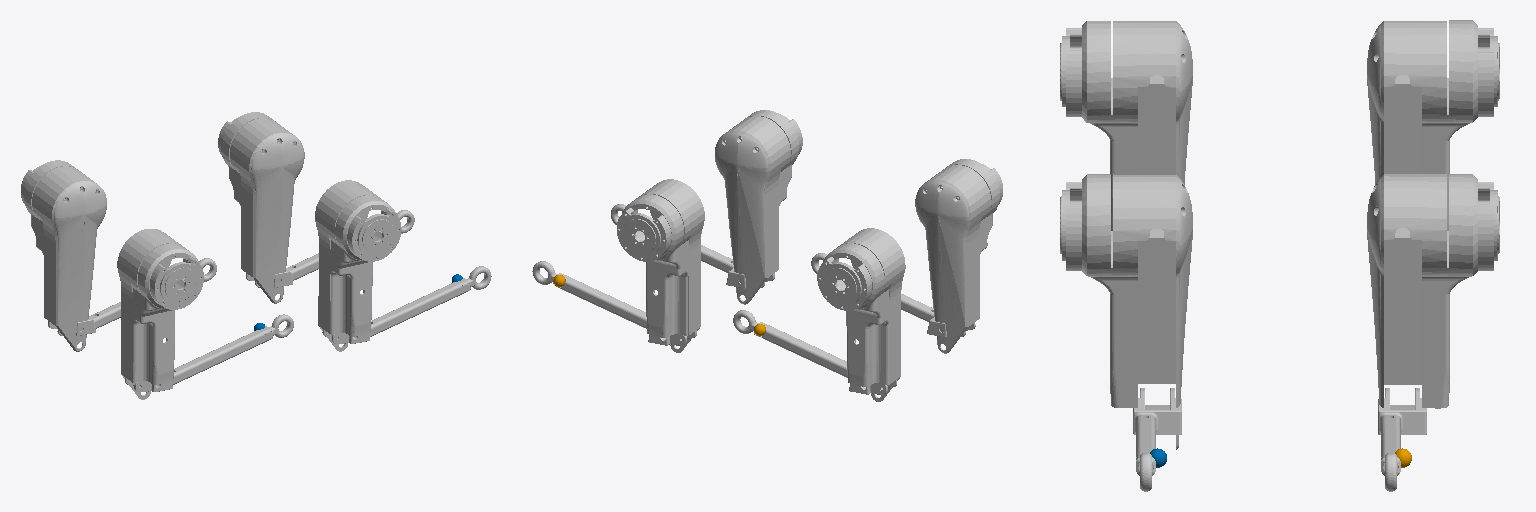
--- Facts derived from the render (not from the file) ---
The picture shows the robot from 3 angles, left to right: view 1: azimuth 30°, elevation 25°; view 2: azimuth 150°, elevation 25°; view 3: azimuth 270°, elevation 25°; orthographic projection.
Robot: go1_description — 17 links, 16 joints (12 revolute, 4 fixed); root link trunk; default pose: all joints at 0 but 4 set to mid-range because 0 is outside their limits (FR_calf_joint = -1.78, FL_calf_joint = -1.78, RR_calf_joint = -1.78, RL_calf_joint = -1.78).
Links seen in each view (by area): view 1: FL_thigh, RL_thigh, RR_thigh, FR_thigh, FR_calf, RR_calf, FL_calf, RL_calf; view 2: RR_thigh, FR_thigh, FL_thigh, RL_thigh, RL_calf, FL_calf, RR_calf, FR_calf; view 3: FL_thigh, FR_thigh, RR_thigh, RL_thigh, FR_calf, FL_calf.
Link boxes in pixels (x1,y1,x2,y2): FL_thigh: (218, 112, 304, 303); RL_thigh: (21, 160, 106, 351); RR_thigh: (117, 229, 203, 399); FR_thigh: (315, 180, 401, 351); FR_calf: (322, 266, 491, 343); RR_calf: (125, 314, 293, 391); FL_calf: (246, 210, 414, 287); RL_calf: (48, 258, 216, 335); RR_thigh: (915, 159, 1002, 353); FR_thigh: (715, 110, 802, 304); FL_thigh: (617, 179, 704, 352); RL_thigh: (817, 228, 905, 401); RL_calf: (733, 310, 896, 394); FL_calf: (532, 261, 696, 345); RR_calf: (811, 253, 975, 337); FR_calf: (611, 204, 774, 288); FL_thigh: (1367, 174, 1499, 408); FR_thigh: (1060, 174, 1192, 449); RR_thigh: (1060, 21, 1192, 230); RL_thigh: (1367, 20, 1499, 230); FR_calf: (1133, 388, 1181, 491); FL_calf: (1378, 388, 1426, 491).
Bounding box of the posed robot: 0.6938 × 0.4547 × 0.3099 m (x, y, z).
Meshes: 5 distinct files referenced, 8 mesh visuals loaded (3 Collada DAE); not drawn: 5 (reference not matched to a file when rendering).

The robot description file, URDF, robot "go1_description":
<?xml version="1.0" ?>
<robot name="go1_description" xmlns:xacro="http://www.ros.org/wiki/xacro">
  <material name="black">
    <color rgba="0.0 0.0 0.0 1.0"/>
  </material>
  <material name="blue">
    <color rgba="0.0 0.0 0.8 1.0"/>
  </material>
  <material name="green">
    <color rgba="0.0 0.8 0.0 1.0"/>
  </material>
  <material name="grey">
    <color rgba="0.2 0.2 0.2 1.0"/>
  </material>
  <material name="silver">
    <color rgba="0.913725490196 0.913725490196 0.847058823529 1.0"/>
  </material>
  <material name="orange">
    <color rgba="1.0 0.423529411765 0.0392156862745 1.0"/>
  </material>
  <material name="brown">
    <color rgba="0.870588235294 0.811764705882 0.764705882353 1.0"/>
  </material>
  <material name="red">
    <color rgba="0.8 0.0 0.0 1.0"/>
  </material>
  <material name="white">
    <color rgba="1.0 1.0 1.0 1.0"/>
  </material>
  <!-- <link name="base">
    <visual>
      <origin rpy="0 0 0" xyz="0 0 0"/>
      <geometry>
        <box size="0.001 0.001 0.001"/>
      </geometry>
    </visual>
  </link>
  <joint name="floating_base" type="fixed">
    <origin rpy="0 0 0" xyz="0 0 0"/>
    <parent link="base"/>
    <child link="trunk"/>
  </joint> -->
  <link name="trunk">
    <visual>
      <origin rpy="0 0 0" xyz="0 0 0"/>
      <geometry>
        <mesh filename="meshes/trunk.dae" scale="1 1 1"/>
      </geometry>
      <!-- <material name="orange"/> -->
    </visual>
    <collision>
      <origin rpy="0 0 0" xyz="0 0 0"/>
      <geometry>
        <box size="0.3762 0.0935 0.114"/>
      </geometry>
    </collision>
    <inertial>
      <origin rpy="0 0 0" xyz="0.0223 0.002 -0.0005"/>
      <mass value="5.204"/>
      <inertia ixx="0.0168352186" ixy="0.0004636141" ixz="0.0002367952" iyy="0.0656071082" iyz="3.6671e-05" izz="0.0742720659"/>
    </inertial>
  </link>
  <!-- <joint name="imu_joint" type="fixed">
    <parent link="trunk"/>
    <child link="imu_link"/>
    <origin rpy="0 0 0" xyz="-0.01592 -0.06659 -0.00617"/>
  </joint>
  <link name="imu_link">
    <inertial>
      <mass value="0.001"/>
      <origin rpy="0 0 0" xyz="0 0 0"/>
      <inertia ixx="0.0001" ixy="0" ixz="0" iyy="0.0001" iyz="0" izz="0.0001"/>
    </inertial>
    <visual>
      <origin rpy="0 0 0" xyz="0 0 0"/>
      <geometry>
        <box size="0.001 0.001 0.001"/>
      </geometry>

    </visual>
    <collision>
      <origin rpy="0 0 0" xyz="0 0 0"/>
      <geometry>
        <box size=".001 .001 .001"/>
      </geometry>
    </collision>
  </link> -->
  <joint name="FR_hip_joint" type="revolute">
    <origin rpy="0 0 0" xyz="0.1881 -0.04675 0"/>
    <parent link="trunk"/>
    <child link="FR_hip"/>
    <axis xyz="1 0 0"/>
    <dynamics damping="0.01" friction="0.2"/>
    <limit effort="23.7" lower="-1.0471975512" upper="1.0471975512" velocity="30.1"/>
  </joint>
  <link name="FR_hip">
    <visual>
      <origin rpy="3.14159265359 0 0" xyz="0 0 0"/>
      <geometry>
        <mesh filename="meshes/hip.dae" scale="1 1 1"/>
      </geometry>
      <!-- <material name="orange"/> -->
    </visual>
    <collision>
      <origin rpy="1.57079632679 0 0" xyz="0 0 0"/>
      <geometry>
        <cylinder length="0.04" radius="0.046"/>
      </geometry>
    </collision>
    <inertial>
      <origin rpy="0 0 0" xyz="-0.00541 0.00074 6e-06"/>
      <mass value="0.591"/>
      <inertia ixx="0.000374268192" ixy="-3.6844422e-05" ixz="-9.86754e-07" iyy="0.000635923669" iyz="1.172894e-06" izz="0.000457647394"/>
    </inertial>
  </link>
  <!-- <joint name="FR_hip_fixed" type="fixed">
    <origin rpy="0 0 0" xyz="0 -0.08 0"/>
    <parent link="FR_hip"/>
    <child link="FR_thigh_shoulder"/>
  </joint>

  <link name="FR_thigh_shoulder">
    <collision>
      <origin rpy="1.57079632679 0 0" xyz="0 0 0"/>
      <geometry>
        <cylinder length="0.032" radius="0.041"/>
      </geometry>
    </collision>
  </link> -->
  <joint name="FR_thigh_joint" type="revolute">
    <origin rpy="0 0 0" xyz="0 -0.08 0"/>
    <parent link="FR_hip"/>
    <child link="FR_thigh"/>
    <axis xyz="0 1 0"/>
    <dynamics damping="0.01" friction="0.2"/>
    <limit effort="23.7" lower="-0.663225115758" upper="2.96705972839" velocity="30.1"/>
  </joint>
  <link name="FR_thigh">
    <visual>
      <origin rpy="0 0 0" xyz="0 0 0"/>
      <geometry>
        <mesh filename="meshes/thigh_mirror.dae" scale="1 1 1"/>
      </geometry>
      <!-- <material name="orange"/> -->
    </visual>
    <collision>
      <origin rpy="0 1.57079632679 0" xyz="0 0 -0.1065"/>
      <geometry>
        <box size="0.213 0.0245 0.034"/>
      </geometry>
    </collision>
    <inertial>
      <origin rpy="0 0 0" xyz="-0.003468 0.018947 -0.032736"/>
      <mass value="0.92"/>
      <inertia ixx="0.005851561134" ixy="-1.783284e-06" ixz="0.000328291374" iyy="0.005596155105" iyz="-2.1430713e-05" izz="0.00107157026"/>
    </inertial>
  </link>
  <joint name="FR_calf_joint" type="revolute">
    <origin rpy="0 0 0" xyz="0 0 -0.213"/>
    <parent link="FR_thigh"/>
    <child link="FR_calf"/>
    <axis xyz="0 1 0"/>
    <dynamics damping="0.01" friction="0.2"/>
    <limit effort="23.7" lower="-2.72271363311" upper="-0.837758040957" velocity="30.1"/>
  </joint>
  <link name="FR_calf">
    <visual>
      <origin rpy="0 0 0" xyz="0 0 0"/>
      <geometry>
        <mesh filename="meshes/calf.dae" scale="1 1 1"/>
      </geometry>
      <!-- <material name="orange"/> -->
    </visual>
    <collision>
      <origin rpy="0 1.57079632679 0" xyz="0 0 -0.1065"/>
      <geometry>
        <box size="0.213 0.016 0.016"/>
      </geometry>
    </collision>
    <inertial>
      <origin rpy="0 0 0" xyz="0.006286 0.001307 -0.122269"/>
      <mass value="0.131"/>
      <inertia ixx="0.002939186297" ixy="1.440899e-06" ixz="-0.00010535955" iyy="0.00295576935" iyz="-2.4397752e-05" izz="3.0273372e-05"/>
    </inertial>
  </link>
  <joint name="FR_foot_fixed" type="fixed" dont_collapse="true">
    <origin rpy="0 0 0" xyz="0 0 -0.213"/>
    <parent link="FR_calf"/>
    <child link="FR_foot"/>
  </joint>
  <link name="FR_foot">
    <visual>
      <origin rpy="0 0 0" xyz="0 0 0"/>
      <geometry>
        <sphere radius="0.01"/>
      </geometry>
      <!-- <material name="orange"/> -->
    </visual>
    <collision>
      <origin rpy="0 0 0" xyz="0 0 0"/>
      <geometry>
        <sphere radius="0.02"/>
      </geometry>
    </collision>
    <inertial>
      <mass value="0.06"/>
      <inertia ixx="9.6e-06" ixy="0.0" ixz="0.0" iyy="9.6e-06" iyz="0.0" izz="9.6e-06"/>
    </inertial>
  </link>
  <joint name="FL_hip_joint" type="revolute">
    <origin rpy="0 0 0" xyz="0.1881 0.04675 0"/>
    <parent link="trunk"/>
    <child link="FL_hip"/>
    <axis xyz="1 0 0"/>
    <dynamics damping="0.01" friction="0.2"/>
    <limit effort="23.7" lower="-1.0471975512" upper="1.0471975512" velocity="30.1"/>
  </joint>
  <link name="FL_hip">
    <visual>
      <origin rpy="0 0 0" xyz="0 0 0"/>
      <geometry>
        <mesh filename="meshes/hip.dae" scale="1 1 1"/>
      </geometry>
      <!-- <material name="orange"/> -->
    </visual>
    <collision>
      <origin rpy="1.57079632679 0 0" xyz="0 0 0"/>
      <geometry>
        <cylinder length="0.04" radius="0.046"/>
      </geometry>
    </collision>
    <inertial>
      <origin rpy="0 0 0" xyz="-0.00541 -0.00074 6e-06"/>
      <mass value="0.591"/>
      <inertia ixx="0.000374268192" ixy="3.6844422e-05" ixz="-9.86754e-07" iyy="0.000635923669" iyz="-1.172894e-06" izz="0.000457647394"/>
    </inertial>
  </link>
  <!-- <joint name="FL_hip_fixed" type="fixed">
    <origin rpy="0 0 0" xyz="0 0.08 0"/>
    <parent link="FL_hip"/>
    <child link="FL_thigh_shoulder"/>
  </joint>

  <link name="FL_thigh_shoulder">
    <collision>
      <origin rpy="1.57079632679 0 0" xyz="0 0 0"/>
      <geometry>
        <cylinder length="0.032" radius="0.041"/>
      </geometry>
    </collision>
  </link> -->
  <joint name="FL_thigh_joint" type="revolute">
    <origin rpy="0 0 0" xyz="0 0.08 0"/>
    <parent link="FL_hip"/>
    <child link="FL_thigh"/>
    <axis xyz="0 1 0"/>
    <dynamics damping="0.01" friction="0.2"/>
    <limit effort="23.7" lower="-0.663225115758" upper="2.96705972839" velocity="30.1"/>
  </joint>
  <link name="FL_thigh">
    <visual>
      <origin rpy="0 0 0" xyz="0 0 0"/>
      <geometry>
        <mesh filename="meshes/thigh.dae" scale="1 1 1"/>
      </geometry>
      <!-- <material name="orange"/> -->
    </visual>
    <collision>
      <origin rpy="0 1.57079632679 0" xyz="0 0 -0.1065"/>
      <geometry>
        <box size="0.213 0.0245 0.034"/>
      </geometry>
    </collision>
    <inertial>
      <origin rpy="0 0 0" xyz="-0.003468 -0.018947 -0.032736"/>
      <mass value="0.92"/>
      <inertia ixx="0.005851561134" ixy="1.783284e-06" ixz="0.000328291374" iyy="0.005596155105" iyz="2.1430713e-05" izz="0.00107157026"/>
    </inertial>
  </link>
  <joint name="FL_calf_joint" type="revolute">
    <origin rpy="0 0 0" xyz="0 0 -0.213"/>
    <parent link="FL_thigh"/>
    <child link="FL_calf"/>
    <axis xyz="0 1 0"/>
    <dynamics damping="0.01" friction="0.2"/>
    <limit effort="23.7" lower="-2.72271363311" upper="-0.837758040957" velocity="30.1"/>
  </joint>
  <link name="FL_calf">
    <visual>
      <origin rpy="0 0 0" xyz="0 0 0"/>
      <geometry>
        <mesh filename="meshes/calf.dae" scale="1 1 1"/>
      </geometry>
      <!-- <material name="orange"/> -->
    </visual>
    <collision>
      <origin rpy="0 1.57079632679 0" xyz="0 0 -0.1065"/>
      <geometry>
        <box size="0.213 0.016 0.016"/>
      </geometry>
    </collision>
    <inertial>
      <origin rpy="0 0 0" xyz="0.006286 0.001307 -0.122269"/>
      <mass value="0.131"/>
      <inertia ixx="0.002939186297" ixy="1.440899e-06" ixz="-0.00010535955" iyy="0.00295576935" iyz="-2.4397752e-05" izz="3.0273372e-05"/>
    </inertial>
  </link>
  <joint name="FL_foot_fixed" type="fixed" dont_collapse="true">
    <origin rpy="0 0 0" xyz="0 0 -0.213"/>
    <parent link="FL_calf"/>
    <child link="FL_foot"/>
  </joint>
  <link name="FL_foot">
    <visual>
      <origin rpy="0 0 0" xyz="0 0 0"/>
      <geometry>
        <sphere radius="0.01"/>
      </geometry>
      <!-- <material name="orange"/> -->
    </visual>
    <collision>
      <origin rpy="0 0 0" xyz="0 0 0"/>
      <geometry>
        <sphere radius="0.02"/>
      </geometry>
    </collision>
    <inertial>
      <mass value="0.06"/>
      <inertia ixx="9.6e-06" ixy="0.0" ixz="0.0" iyy="9.6e-06" iyz="0.0" izz="9.6e-06"/>
    </inertial>
  </link>
  <joint name="RR_hip_joint" type="revolute">
    <origin rpy="0 0 0" xyz="-0.1881 -0.04675 0"/>
    <parent link="trunk"/>
    <child link="RR_hip"/>
    <axis xyz="1 0 0"/>
    <dynamics damping="0.01" friction="0.2"/>
    <limit effort="23.7" lower="-1.0471975512" upper="1.0471975512" velocity="30.1"/>
  </joint>
  <link name="RR_hip">
    <visual>
      <origin rpy="3.14159265359 3.14159265359 0" xyz="0 0 0"/>
      <geometry>
        <mesh filename="meshes/hip.dae" scale="1 1 1"/>
      </geometry>
      <!-- <material name="orange"/> -->
    </visual>
    <collision>
      <origin rpy="1.57079632679 0 0" xyz="0 0 0"/>
      <geometry>
        <cylinder length="0.04" radius="0.046"/>
      </geometry>
    </collision>
    <inertial>
      <origin rpy="0 0 0" xyz="0.00541 0.00074 6e-06"/>
      <mass value="0.591"/>
      <inertia ixx="0.000374268192" ixy="3.6844422e-05" ixz="9.86754e-07" iyy="0.000635923669" iyz="1.172894e-06" izz="0.000457647394"/>
    </inertial>
  </link>
  <!-- <joint name="RR_hip_fixed" type="fixed">
    <origin rpy="0 0 0" xyz="0 -0.08 0"/>
    <parent link="RR_hip"/>
    <child link="RR_thigh_shoulder"/>
  </joint>

  <link name="RR_thigh_shoulder">
    <collision>
      <origin rpy="1.57079632679 0 0" xyz="0 0 0"/>
      <geometry>
        <cylinder length="0.032" radius="0.041"/>
      </geometry>
    </collision>
  </link> -->
  <joint name="RR_thigh_joint" type="revolute">
    <origin rpy="0 0 0" xyz="0 -0.08 0"/>
    <parent link="RR_hip"/>
    <child link="RR_thigh"/>
    <axis xyz="0 1 0"/>
    <dynamics damping="0.01" friction="0.2"/>
    <limit effort="23.7" lower="-0.663225115758" upper="2.96705972839" velocity="30.1"/>
  </joint>
  <link name="RR_thigh">
    <visual>
      <origin rpy="0 0 0" xyz="0 0 0"/>
      <geometry>
        <mesh filename="meshes/thigh_mirror.dae" scale="1 1 1"/>
      </geometry>
      <!-- <material name="orange"/> -->
    </visual>
    <collision>
      <origin rpy="0 1.57079632679 0" xyz="0 0 -0.1065"/>
      <geometry>
        <box size="0.213 0.0245 0.034"/>
      </geometry>
    </collision>
    <inertial>
      <origin rpy="0 0 0" xyz="-0.003468 0.018947 -0.032736"/>
      <mass value="0.92"/>
      <inertia ixx="0.005851561134" ixy="-1.783284e-06" ixz="0.000328291374" iyy="0.005596155105" iyz="-2.1430713e-05" izz="0.00107157026"/>
    </inertial>
  </link>
  <joint name="RR_calf_joint" type="revolute">
    <origin rpy="0 0 0" xyz="0 0 -0.213"/>
    <parent link="RR_thigh"/>
    <child link="RR_calf"/>
    <axis xyz="0 1 0"/>
    <dynamics damping="0.01" friction="0.2"/>
    <limit effort="23.7" lower="-2.72271363311" upper="-0.837758040957" velocity="30.1"/>
  </joint>
  <link name="RR_calf">
    <visual>
      <origin rpy="0 0 0" xyz="0 0 0"/>
      <geometry>
        <mesh filename="meshes/calf.dae" scale="1 1 1"/>
      </geometry>
      <!-- <material name="orange"/> -->
    </visual>
    <collision>
      <origin rpy="0 1.57079632679 0" xyz="0 0 -0.1065"/>
      <geometry>
        <box size="0.213 0.016 0.016"/>
      </geometry>
    </collision>
    <inertial>
      <origin rpy="0 0 0" xyz="0.006286 0.001307 -0.122269"/>
      <mass value="0.131"/>
      <inertia ixx="0.002939186297" ixy="1.440899e-06" ixz="-0.00010535955" iyy="0.00295576935" iyz="-2.4397752e-05" izz="3.0273372e-05"/>
    </inertial>
  </link>
  <joint name="RR_foot_fixed" type="fixed" dont_collapse="true">
    <origin rpy="0 0 0" xyz="0 0 -0.213"/>
    <parent link="RR_calf"/>
    <child link="RR_foot"/>
  </joint>
  <link name="RR_foot">
    <visual>
      <origin rpy="0 0 0" xyz="0 0 0"/>
      <geometry>
        <sphere radius="0.01"/>
      </geometry>
      <!-- <material name="orange"/> -->
    </visual>
    <collision>
      <origin rpy="0 0 0" xyz="0 0 0"/>
      <geometry>
        <sphere radius="0.02"/>
      </geometry>
    </collision>
    <inertial>
      <mass value="0.06"/>
      <inertia ixx="9.6e-06" ixy="0.0" ixz="0.0" iyy="9.6e-06" iyz="0.0" izz="9.6e-06"/>
    </inertial>
  </link>
  <joint name="RL_hip_joint" type="revolute">
    <origin rpy="0 0 0" xyz="-0.1881 0.04675 0"/>
    <parent link="trunk"/>
    <child link="RL_hip"/>
    <axis xyz="1 0 0"/>
    <dynamics damping="0.01" friction="0.2"/>
    <limit effort="23.7" lower="-1.0471975512" upper="1.0471975512" velocity="30.1"/>
  </joint>
  <link name="RL_hip">
    <visual>
      <origin rpy="0 3.14159265359 0" xyz="0 0 0"/>
      <geometry>
        <mesh filename="meshes/hip.dae" scale="1 1 1"/>
      </geometry>
      <!-- <material name="orange"/> -->
    </visual>
    <collision>
      <origin rpy="1.57079632679 0 0" xyz="0 0 0"/>
      <geometry>
        <cylinder length="0.04" radius="0.046"/>
      </geometry>
    </collision>
    <inertial>
      <origin rpy="0 0 0" xyz="0.00541 -0.00074 6e-06"/>
      <mass value="0.591"/>
      <inertia ixx="0.000374268192" ixy="-3.6844422e-05" ixz="9.86754e-07" iyy="0.000635923669" iyz="-1.172894e-06" izz="0.000457647394"/>
    </inertial>
  </link>
  <!-- <joint name="RL_hip_fixed" type="fixed">
    <origin rpy="0 0 0" xyz="0 0.08 0"/>
    <parent link="RL_hip"/>
    <child link="RL_thigh_shoulder"/>
  </joint>

  <link name="RL_thigh_shoulder">
    <collision>
      <origin rpy="1.57079632679 0 0" xyz="0 0 0"/>
      <geometry>
        <cylinder length="0.032" radius="0.041"/>
      </geometry>
    </collision>
  </link> -->
  <joint name="RL_thigh_joint" type="revolute">
    <origin rpy="0 0 0" xyz="0 0.08 0"/>
    <parent link="RL_hip"/>
    <child link="RL_thigh"/>
    <axis xyz="0 1 0"/>
    <dynamics damping="0.01" friction="0.2"/>
    <limit effort="23.7" lower="-0.663225115758" upper="2.96705972839" velocity="30.1"/>
  </joint>
  <link name="RL_thigh">
    <visual>
      <origin rpy="0 0 0" xyz="0 0 0"/>
      <geometry>
        <mesh filename="meshes/thigh.dae" scale="1 1 1"/>
      </geometry>
      <!-- <material name="orange"/> -->
    </visual>
    <collision>
      <origin rpy="0 1.57079632679 0" xyz="0 0 -0.1065"/>
      <geometry>
        <box size="0.213 0.0245 0.034"/>
      </geometry>
    </collision>
    <inertial>
      <origin rpy="0 0 0" xyz="-0.003468 -0.018947 -0.032736"/>
      <mass value="0.92"/>
      <inertia ixx="0.005851561134" ixy="1.783284e-06" ixz="0.000328291374" iyy="0.005596155105" iyz="2.1430713e-05" izz="0.00107157026"/>
    </inertial>
  </link>
  <joint name="RL_calf_joint" type="revolute">
    <origin rpy="0 0 0" xyz="0 0 -0.213"/>
    <parent link="RL_thigh"/>
    <child link="RL_calf"/>
    <axis xyz="0 1 0"/>
    <dynamics damping="0.01" friction="0.2"/>
    <limit effort="23.7" lower="-2.72271363311" upper="-0.837758040957" velocity="30.1"/>
  </joint>
  <link name="RL_calf">
    <visual>
      <origin rpy="0 0 0" xyz="0 0 0"/>
      <geometry>
        <mesh filename="meshes/calf.dae" scale="1 1 1"/>
      </geometry>
      <!-- <material name="orange"/> -->
    </visual>
    <collision>
      <origin rpy="0 1.57079632679 0" xyz="0 0 -0.1065"/>
      <geometry>
        <box size="0.213 0.016 0.016"/>
      </geometry>
    </collision>
    <inertial>
      <origin rpy="0 0 0" xyz="0.006286 0.001307 -0.122269"/>
      <mass value="0.131"/>
      <inertia ixx="0.002939186297" ixy="1.440899e-06" ixz="-0.00010535955" iyy="0.00295576935" iyz="-2.4397752e-05" izz="3.0273372e-05"/>
    </inertial>
  </link>
  <joint name="RL_foot_fixed" type="fixed" dont_collapse="true">
    <origin rpy="0 0 0" xyz="0 0 -0.213"/>
    <parent link="RL_calf"/>
    <child link="RL_foot"/>
  </joint>
  <link name="RL_foot">
    <visual>
      <origin rpy="0 0 0" xyz="0 0 0"/>
      <geometry>
        <sphere radius="0.01"/>
      </geometry>
      <!-- <material name="orange"/> -->
    </visual>
    <collision>
      <origin rpy="0 0 0" xyz="0 0 0"/>
      <geometry>
        <sphere radius="0.02"/>
      </geometry>
    </collision>
    <inertial>
      <mass value="0.06"/>
      <inertia ixx="9.6e-06" ixy="0.0" ixz="0.0" iyy="9.6e-06" iyz="0.0" izz="9.6e-06"/>
    </inertial>
  </link>
  <!-- <joint name="camera_joint_face" type="fixed">
    <origin rpy="3.14159265359 0 0" xyz="0.2785 0.0125 0.0167"/>
    <parent link="trunk"/>
    <child link="camera_face"/>
  </joint>
  <link name="camera_face">
    <collision>
      <origin rpy="0 0 0" xyz="0 0 0"/>
      <geometry>
        <box size=".001 .001 .001"/>
      </geometry>
    </collision>
    <visual>
      <origin rpy="0 0 0" xyz="0 0 0"/>
      <geometry>
        <mesh filename="meshes/depthCamera.dae" scale="1 1 1"/>
      </geometry>
    </visual>
    <inertial>
      <mass value="1e-5"/>
      <origin rpy="0 0 0" xyz="0 0 0"/>
      <inertia ixx="1e-6" ixy="0" ixz="0" iyy="1e-6" iyz="0" izz="1e-6"/>
    </inertial>
  </link>
  <joint name="camera_optical_joint_face" type="fixed">
    <origin rpy="-1.57079632679 0 -1.57079632679" xyz="0 0 0"/>
    <parent link="camera_face"/>
    <child link="camera_optical_face"/>
  </joint>
  <link name="camera_optical_face">
        </link>
  <joint name="camera_joint_chin" type="fixed">
    <origin rpy="3.14159265359 1.57079632679 0" xyz="0.2522 0.0125 -0.0436"/>
    <parent link="trunk"/>
    <child link="camera_chin"/>
  </joint>
  <link name="camera_chin">
    <collision>
      <origin rpy="0 0 0" xyz="0 0 0"/>
      <geometry>
        <box size=".001 .001 .001"/>
      </geometry>
    </collision>
    <visual>
      <origin rpy="0 0 0" xyz="0 0 0"/>
      <geometry>
        <mesh filename="meshes/depthCamera.dae" scale="1 1 1"/>
      </geometry>
    </visual>
    <inertial>
      <mass value="1e-5"/>
      <origin rpy="0 0 0" xyz="0 0 0"/>
      <inertia ixx="1e-6" ixy="0" ixz="0" iyy="1e-6" iyz="0" izz="1e-6"/>
    </inertial>
  </link>
  <joint name="camera_optical_joint_chin" type="fixed">
    <origin rpy="-1.57079632679 0 -1.57079632679" xyz="0 0 0"/>
    <parent link="camera_chin"/>
    <child link="camera_optical_chin"/>
  </joint>
  <link name="camera_optical_chin">
        </link>
  <joint name="camera_joint_left" type="fixed">
    <origin rpy="3.14159265359 0.2618 1.57079632679" xyz="-0.066 0.082 -0.0176"/>
    <parent link="trunk"/>
    <child link="camera_left"/>
  </joint>
  <link name="camera_left">
    <collision>
      <origin rpy="0 0 0" xyz="0 0 0"/>
      <geometry>
        <box size=".001 .001 .001"/>
      </geometry>
    </collision>
    <visual>
      <origin rpy="0 0 0" xyz="0 0 0"/>
      <geometry>
        <mesh filename="meshes/depthCamera.dae" scale="1 1 1"/>
      </geometry>
    </visual>
    <inertial>
      <mass value="1e-5"/>
      <origin rpy="0 0 0" xyz="0 0 0"/>
      <inertia ixx="1e-6" ixy="0" ixz="0" iyy="1e-6" iyz="0" izz="1e-6"/>
    </inertial>
  </link>
  <joint name="camera_optical_joint_left" type="fixed">
    <origin rpy="-1.57079632679 0 -1.57079632679" xyz="0 0 0"/>
    <parent link="camera_left"/>
    <child link="camera_optical_left"/>
  </joint>
  <link name="camera_optical_left">
        </link>
  <joint name="camera_joint_right" type="fixed">
    <origin rpy="3.14159265359 0.2618 -1.57079632679" xyz="-0.041 -0.082 -0.0176"/>
    <parent link="trunk"/>
    <child link="camera_right"/>
  </joint>
  <link name="camera_right">
    <collision>
      <origin rpy="0 0 0" xyz="0 0 0"/>
      <geometry>
        <box size=".001 .001 .001"/>
      </geometry>
    </collision>
    <visual>
      <origin rpy="0 0 0" xyz="0 0 0"/>
      <geometry>
        <mesh filename="meshes/depthCamera.dae" scale="1 1 1"/>
      </geometry>
    </visual>
    <inertial>
      <mass value="1e-5"/>
      <origin rpy="0 0 0" xyz="0 0 0"/>
      <inertia ixx="1e-6" ixy="0" ixz="0" iyy="1e-6" iyz="0" izz="1e-6"/>
    </inertial>
  </link>
  <joint name="camera_optical_joint_right" type="fixed">
    <origin rpy="-1.57079632679 0 -1.57079632679" xyz="0 0 0"/>
    <parent link="camera_right"/>
    <child link="camera_optical_right"/>
  </joint>
  <link name="camera_optical_right">
        </link>
  <joint name="camera_joint_rearDown" type="fixed">
    <origin rpy="3.14159265359 1.57079632679 0" xyz="-0.0825 0.0125 -0.04365"/>
    <parent link="trunk"/>
    <child link="camera_rearDown"/>
  </joint>
  <link name="camera_rearDown">
    <collision>
      <origin rpy="0 0 0" xyz="0 0 0"/>
      <geometry>
        <box size=".001 .001 .001"/>
      </geometry>
    </collision>
    <visual>
      <origin rpy="0 0 0" xyz="0 0 0"/>
      <geometry>
        <mesh filename="meshes/depthCamera.dae" scale="1 1 1"/>
      </geometry>
    </visual>
    <inertial>
      <mass value="1e-5"/>
      <origin rpy="0 0 0" xyz="0 0 0"/>
      <inertia ixx="1e-6" ixy="0" ixz="0" iyy="1e-6" iyz="0" izz="1e-6"/>
    </inertial>
  </link>
  <joint name="camera_optical_joint_rearDown" type="fixed">
    <origin rpy="-1.57079632679 0 -1.57079632679" xyz="0 0 0"/>
    <parent link="camera_rearDown"/>
    <child link="camera_optical_rearDown"/>
  </joint>
  <link name="camera_optical_rearDown">
        </link>
  <joint name="camera_laserscan_joint_left" type="fixed">
    <origin rpy="0 0.2618 0" xyz="0 0 0"/>
    <parent link="camera_left"/>
    <child link="camera_laserscan_link_left"/>
  </joint>
  <link name="camera_laserscan_link_left">
    </link>
  <joint name="camera_laserscan_joint_right" type="fixed">
    <origin rpy="0 0.2618 0" xyz="0 0 0"/>
    <parent link="camera_right"/>
    <child link="camera_laserscan_link_right"/>
  </joint>
  <link name="camera_laserscan_link_right">
    </link>
  <joint name="ultraSound_joint_left" type="fixed">
    <origin rpy="0 0.2618 1.57079632679" xyz="-0.0535  0.0826 0.00868"/>
    <parent link="trunk"/>
    <child link="ultraSound_left"/>
  </joint>
  <link name="ultraSound_left">
    <collision>
      <origin rpy="0 0 0" xyz="0 0 0"/>
      <geometry>
        <box size=".001 .001 .001"/>
      </geometry>
    </collision>
    <visual>
      <origin rpy="0 0 0" xyz="0 0 0"/>
      <geometry>
        <mesh filename="meshes/ultraSound.dae" scale="1 1 1"/>
      </geometry>
      <material name="black"/>
    </visual>
    <inertial>
      <mass value="1e-5"/>
      <origin rpy="0 0 0" xyz="0 0 0"/>
      <inertia ixx="1e-6" ixy="0" ixz="0" iyy="1e-6" iyz="0" izz="1e-6"/>
    </inertial>
  </link>
  <joint name="ultraSound_joint_right" type="fixed">
    <origin rpy="0 0.2618 -1.57079632679" xyz="-0.0535 -0.0826 0.00868"/>
    <parent link="trunk"/>
    <child link="ultraSound_right"/>
  </joint>
  <link name="ultraSound_right">
    <collision>
      <origin rpy="0 0 0" xyz="0 0 0"/>
      <geometry>
        <box size=".001 .001 .001"/>
      </geometry>
    </collision>
    <visual>
      <origin rpy="0 0 0" xyz="0 0 0"/>
      <geometry>
        <mesh filename="meshes/ultraSound.dae" scale="1 1 1"/>
      </geometry>
      <material name="black"/>
    </visual>
    <inertial>
      <mass value="1e-5"/>
      <origin rpy="0 0 0" xyz="0 0 0"/>
      <inertia ixx="1e-6" ixy="0" ixz="0" iyy="1e-6" iyz="0" izz="1e-6"/>
    </inertial>
  </link>
  <joint name="ultraSound_joint_face" type="fixed">
    <origin rpy="0 0 0" xyz="0.2747 0.0 -0.0088"/>
    <parent link="trunk"/>
    <child link="ultraSound_face"/>
  </joint>
  <link name="ultraSound_face">
    <collision>
      <origin rpy="0 0 0" xyz="0 0 0"/>
      <geometry>
        <box size=".001 .001 .001"/>
      </geometry>
    </collision>
    <visual>
      <origin rpy="0 0 0" xyz="0 0 0"/>
      <geometry>
        <mesh filename="meshes/ultraSound.dae" scale="1 1 1"/>
      </geometry>
      <material name="black"/>
    </visual>
    <inertial>
      <mass value="1e-5"/>
      <origin rpy="0 0 0" xyz="0 0 0"/>
      <inertia ixx="1e-6" ixy="0" ixz="0" iyy="1e-6" iyz="0" izz="1e-6"/>
    </inertial>
  </link> -->
</robot>
